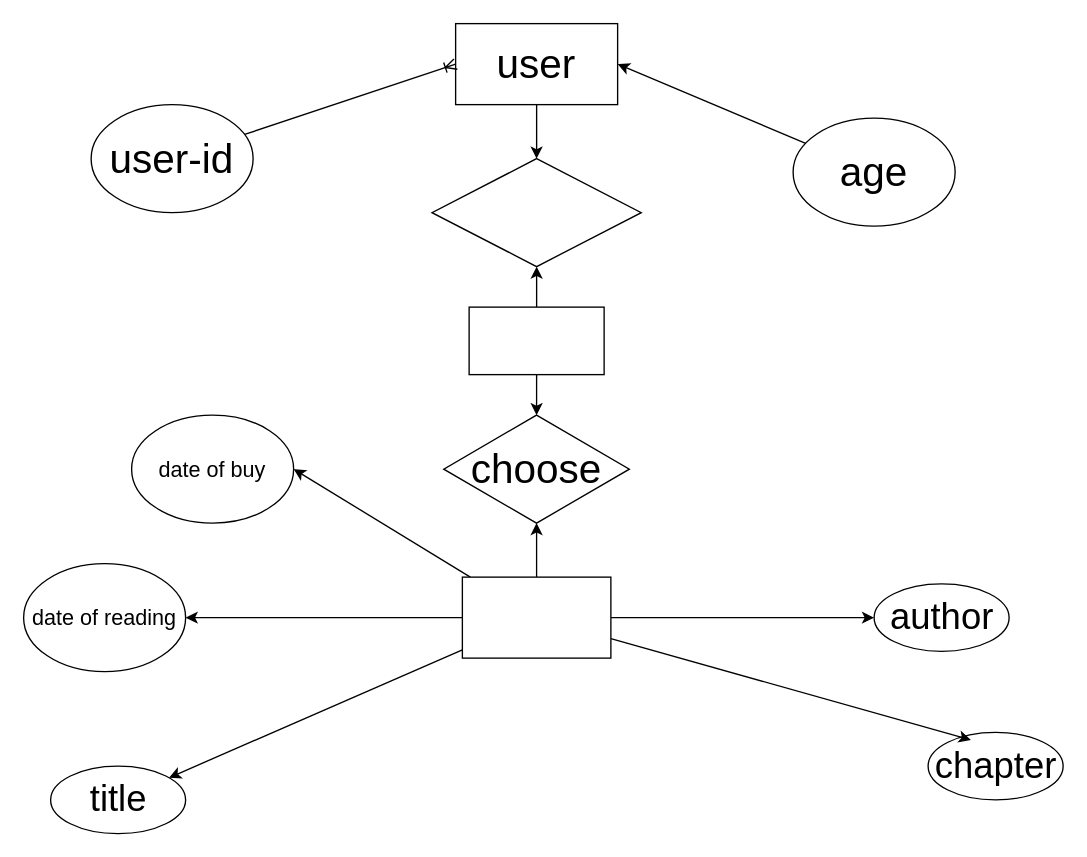
Some shapes in this 1087 by 857 pixel diagram are drawn without their labels. The shapes that lost their labels are listed below. From the top down, each one's box as (x1, y1, x2, y2) in pixels, then its label:
(431, 157, 641, 267): go
(468, 306, 604, 375): library
(461, 576, 611, 658): book
